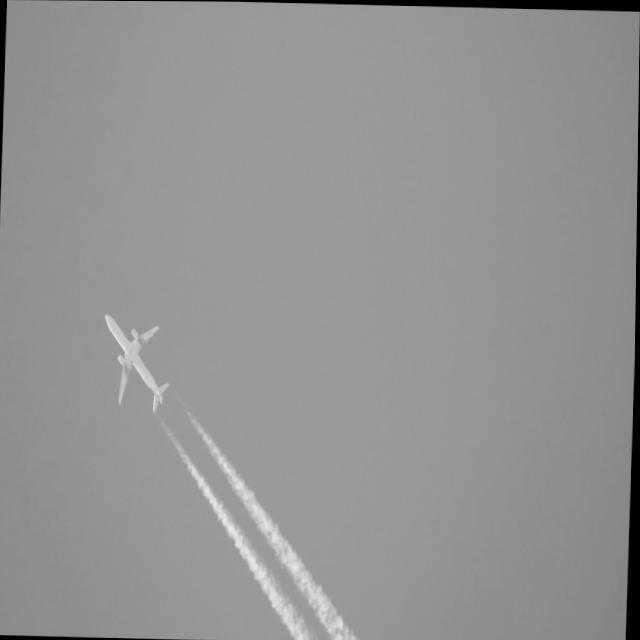aeroplane: (97, 304, 170, 415)
